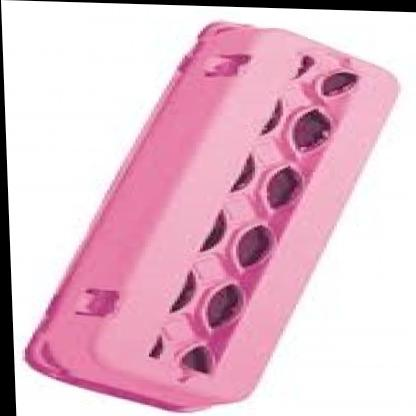Paper: (11, 0, 409, 416)
